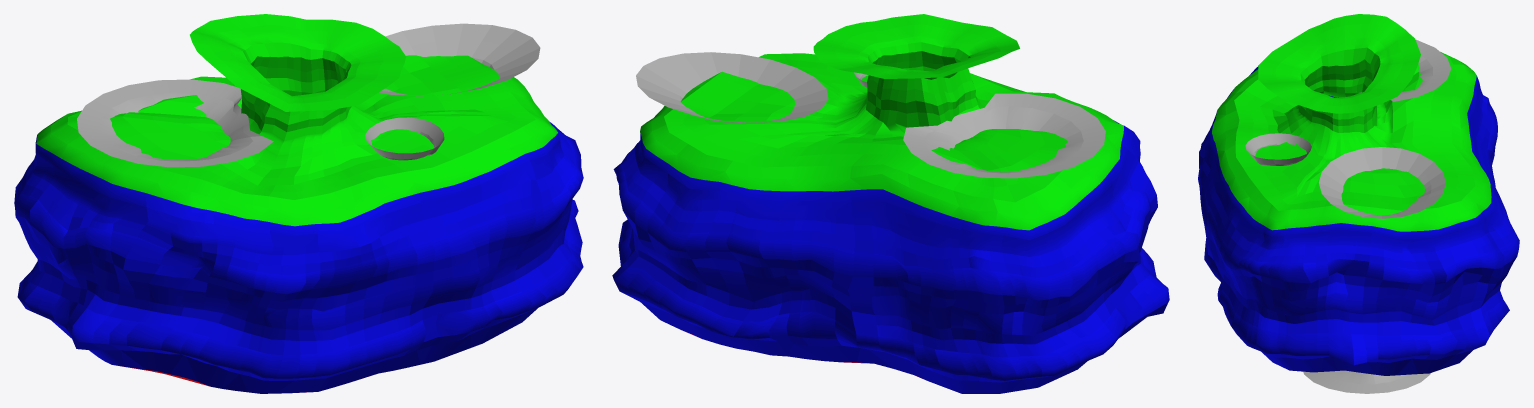
Rendered from Environment.fbx.
3 views of the same model, side by side, from view 1: azimuth 30°, elevation 25°; view 2: azimuth 150°, elevation 25°; view 3: azimuth 270°, elevation 25° (orthographic). The views are drawn at different scales.
Parts seen in each view (by area): view 1: Walls, Pillar1, Pillar3, Pillar2; view 2: Walls, Pillar1, Pillar3; view 3: Walls, Pillar3, Pillar1, Pillar2.
Part boxes in pixels (x1,y1,x2,y2): Walls: (14, 14, 583, 393); Pillar1: (77, 79, 273, 167); Pillar3: (379, 23, 540, 96); Pillar2: (365, 117, 444, 160); Walls: (612, 14, 1169, 393); Pillar1: (903, 93, 1105, 178); Pillar3: (636, 52, 828, 122); Walls: (1198, 14, 1519, 375); Pillar3: (1303, 147, 1445, 393); Pillar1: (1356, 39, 1451, 101); Pillar2: (1245, 133, 1311, 165).
Size of the model in its own units: 460 by 259 by 301.
